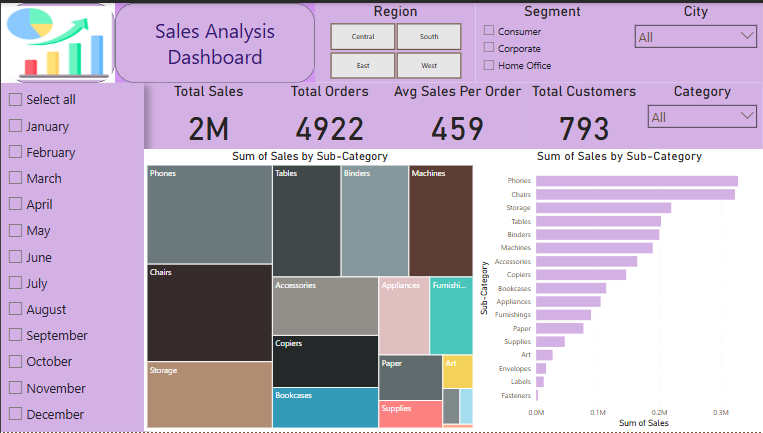

The page's visual inventory and layout, read from the dashboard file:
{"tool":"powerbi","page":{"name":"Product Performance","canvas":[1280,720],"ordinal":1},"visuals":[{"type":"shape","box":[10.1,0,181.4,134.4],"z":0},{"type":"image","box":[0,0,191.5,134.4],"z":1000},{"type":"shape","box":[191.5,0,336,134.4],"z":2000},{"type":"card","title":"Total Sales","fields":{"Values":["All Measures.Total Sales"]},"box":[240.2,134.4,216.7,110.9],"z":3000},{"type":"slicer","title":"Region","fields":{"Values":["train.Region"]},"box":[527.5,0,270.4,134.4],"z":4000},{"type":"slicer","title":"Order Month","fields":{"Values":["train.Order Date.Variation.Date Hierarchy.Month"]},"box":[0,134.4,240.2,586.2],"z":5000},{"type":"card","title":"Total Orders","fields":{"Values":["All Measures.Total Orders"]},"box":[451.9,134.4,199.9,110.9],"z":6000},{"type":"card","title":"Avg Sales Per Order","fields":{"Values":["All Measures.Avg Sales per Order"]},"box":[651.8,134.4,230.1,110.9],"z":7000},{"type":"card","title":"Total Customers","fields":{"Values":["All Measures.Total Customers"]},"box":[881.9,134.4,194.9,110.9],"z":8000},{"type":"slicer","title":"Segment","fields":{"Values":["train.Segment"]},"box":[797.9,0,257,134.4],"z":9000},{"type":"treemap","fields":{"Group":["train.Sub-Category"],"Values":["Sum(train.Sales)"]},"box":[240.2,245.2,557.7,473.7],"z":10000},{"type":"barChart","fields":{"Y":["Sum(train.Sales)"],"Category":["train.Sub-Category"]},"box":[797.9,245.2,482.1,473.7],"z":12000},{"type":"slicer","title":"City","fields":{"Values":["train.City"]},"box":[1054.9,0,225.1,134.4],"z":13000},{"type":"slicer","title":"Category","fields":{"Values":["train.Category"]},"box":[1076.7,134.4,203.3,110.9],"z":14000}]}

Visuals, with their boxes in screenshot pixels (x1, y1, x2, y2), scaled from the page's 1280x720 canvas onto the 763x433 screenshot:
shape: [left=6, top=0, right=114, bottom=81]
image: [left=0, top=0, right=114, bottom=81]
shape: [left=114, top=0, right=314, bottom=81]
"Total Sales" card: [left=143, top=81, right=272, bottom=148]
"Region" slicer: [left=314, top=0, right=476, bottom=81]
"Order Month" slicer: [left=0, top=81, right=143, bottom=432]
"Total Orders" card: [left=269, top=81, right=389, bottom=148]
"Avg Sales Per Order" card: [left=389, top=81, right=526, bottom=148]
"Total Customers" card: [left=526, top=81, right=642, bottom=148]
"Segment" slicer: [left=476, top=0, right=629, bottom=81]
treemap - train.Sub-Category x Sum(train.Sales): [left=143, top=147, right=476, bottom=432]
barChart - Sum(train.Sales) x train.Sub-Category: [left=476, top=147, right=762, bottom=432]
"City" slicer: [left=629, top=0, right=762, bottom=81]
"Category" slicer: [left=642, top=81, right=762, bottom=148]
